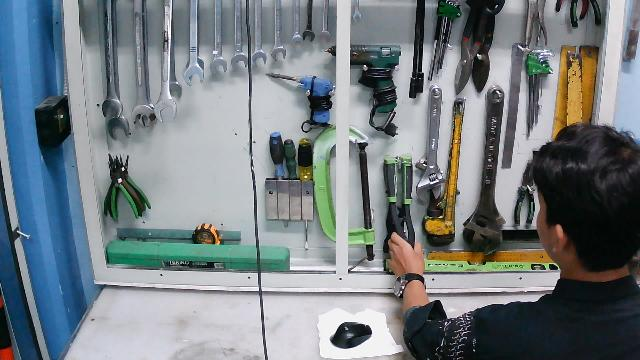tang_rivet: (379, 151, 417, 264)
